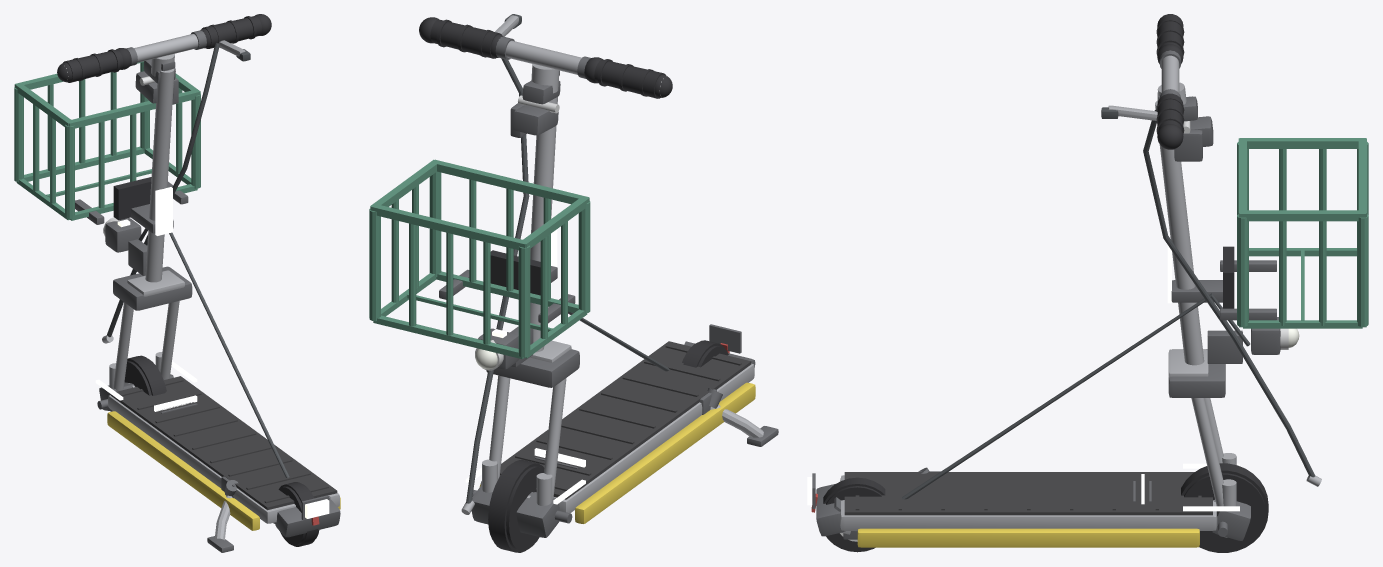
File: PR_scooter.fbx
3 views of the same model, side by side, from view 1: azimuth 30°, elevation 25°; view 2: azimuth 150°, elevation 25°; view 3: azimuth 270°, elevation 25° (orthographic). The views are drawn at different scales.
Parts seen in each view (by area): view 1: PR_scooter; view 2: PR_scooter; view 3: PR_scooter.
Part boxes in pixels (x1,y1,x2,y2): PR_scooter: (14,14,340,552); PR_scooter: (369,14,778,552); PR_scooter: (807,14,1368,552).
Bounding box in the file's own units: 0.504 × 0.9288 × 0.9834.
